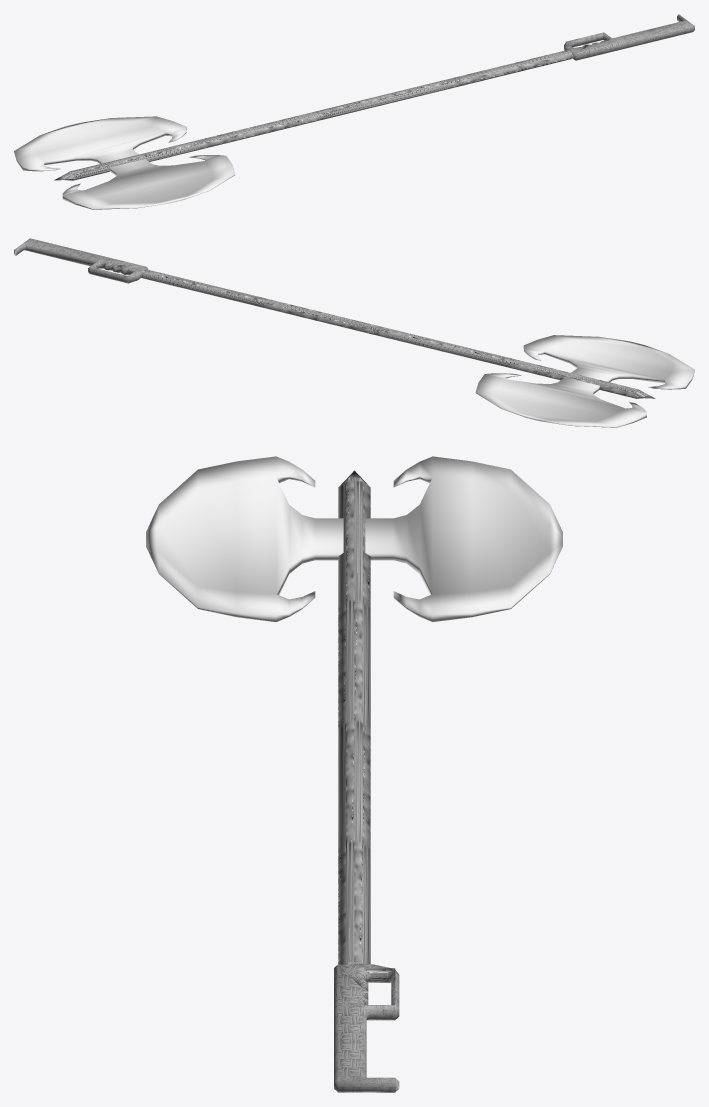
The model's file is axe.fbx.
3 views of the same model, one above another, from view 1: azimuth 30°, elevation 25°; view 2: azimuth 150°, elevation 25°; view 3: azimuth 270°, elevation 25° (orthographic). The views are drawn at different scales.
Visible parts, largest first — view 1: Axe; view 2: Axe; view 3: Axe.
Boxes of the visible parts, x1,y1,x2,y2 form: Axe: (14,14,694,209); Axe: (14,238,694,427); Axe: (146,456,562,1092).
Size of the model in its own units: 182 by 2 by 51.2.
